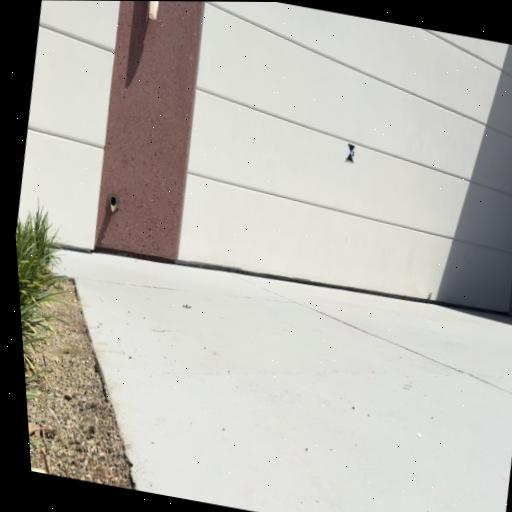target0: (344, 142, 357, 163)
